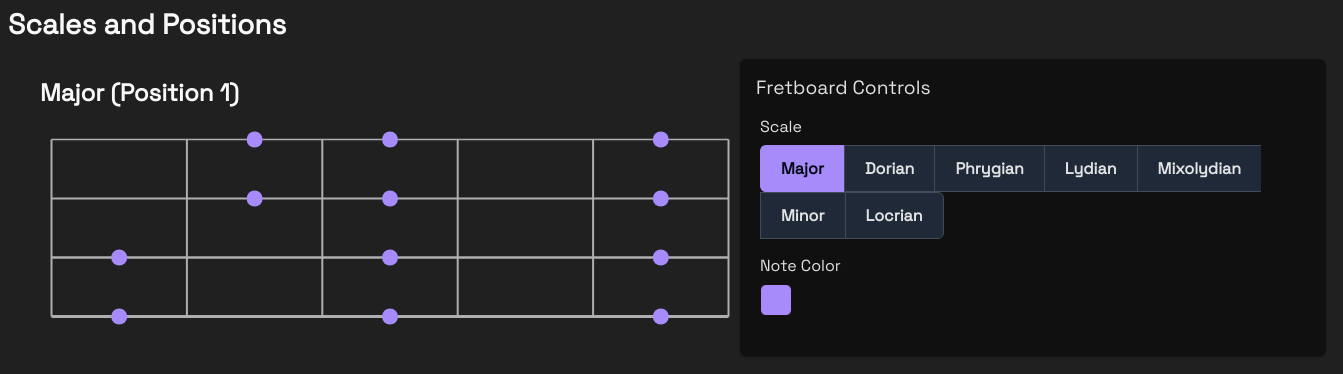
Test: Scales › scale selection › updates the subtitle when Locrian is selected
The image size is (1343, 374).
What coordinates should you click on to do the following:
click the button "Locrian"
I would click on:
 (894, 215)
Its box is [844,192,944,239].
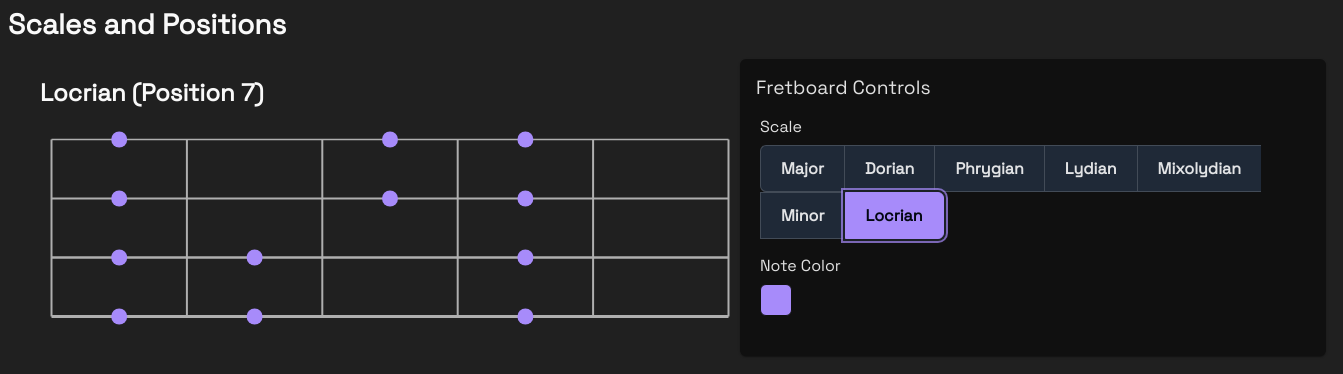
Expected: the heading "Locrian (Position 7)" is shown, [40,77,264,108]
